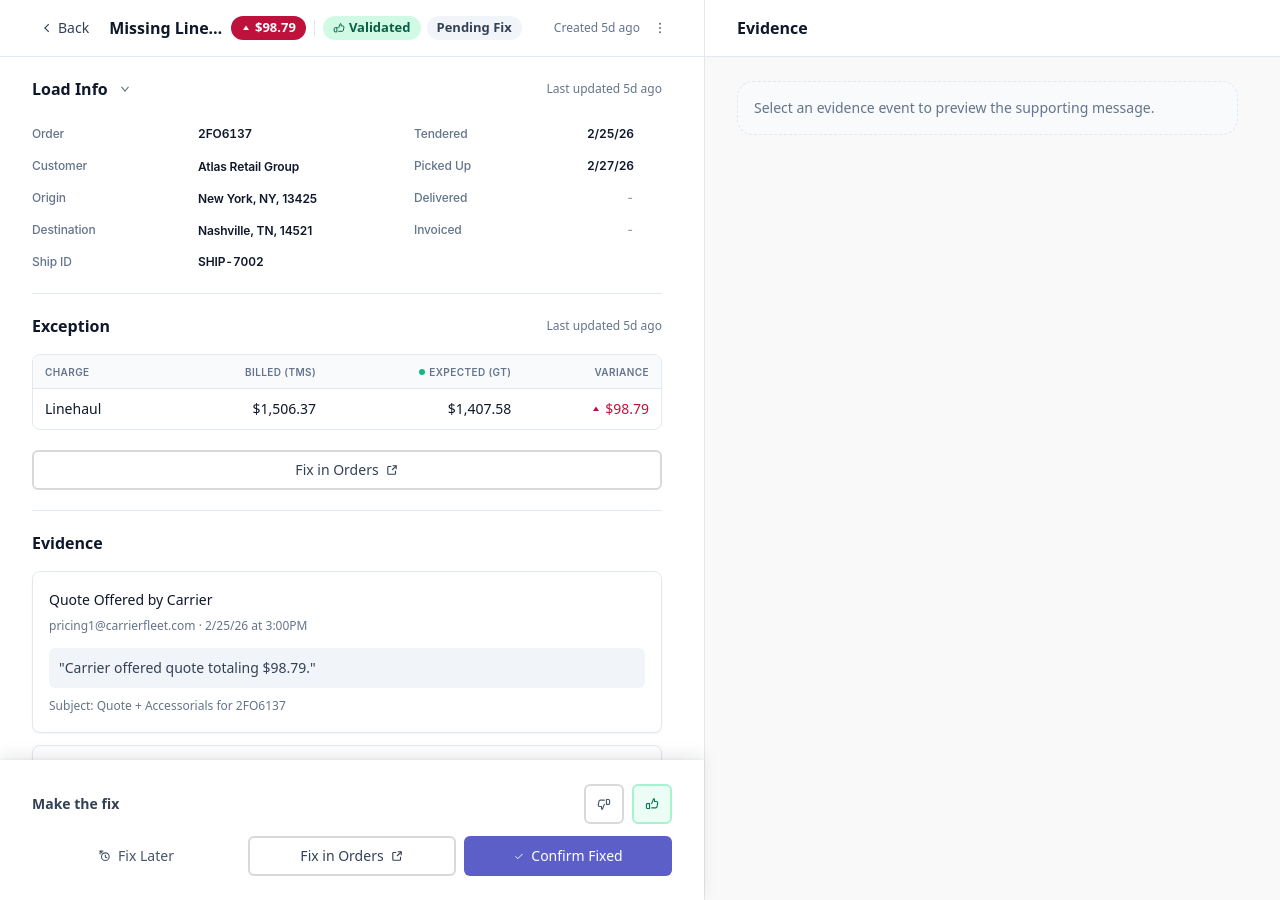
Test: DetailPage › returns to neutral pending states when deselecting a preselected agree decision
expect the element with test id "detail-status-chips" shows "Validated": met, box 349,18 -> 410,36
expect the element with test id "detail-status-chips" shows "Pending Fix": met, box 436,18 -> 512,36
Click the button with test id "decision-agree" at (652, 804), box 632,784 -> 672,824
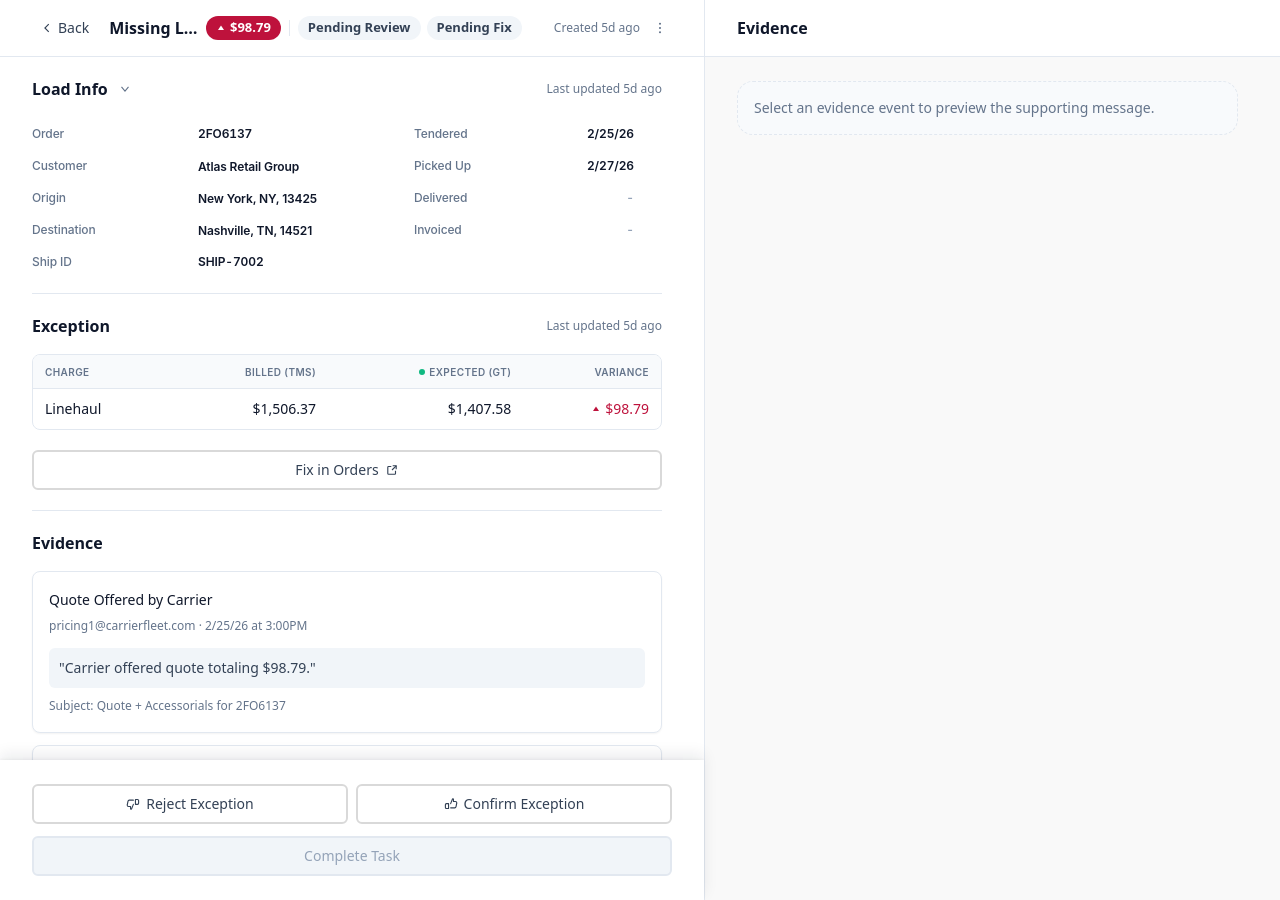
expect the element with test id "default-decision-row" is shown: met, box 32,784 -> 672,824
expect the text "Reject Exception" is shown: met, box 146,794 -> 254,814
expect the text "Confirm Exception" is shown: met, box 464,794 -> 584,814
